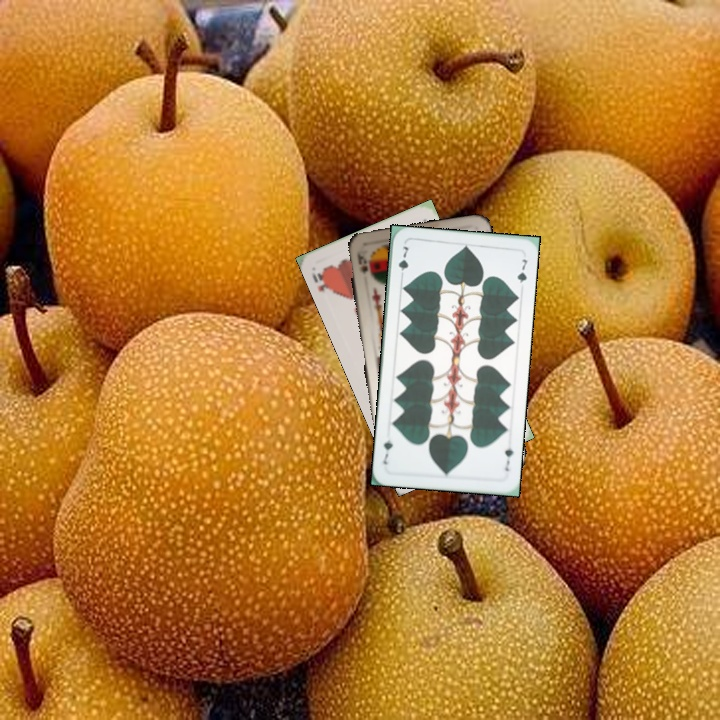G7: (394, 242, 411, 282), (500, 444, 516, 474)
HO: (308, 264, 334, 294)
SK: (353, 246, 371, 276)
